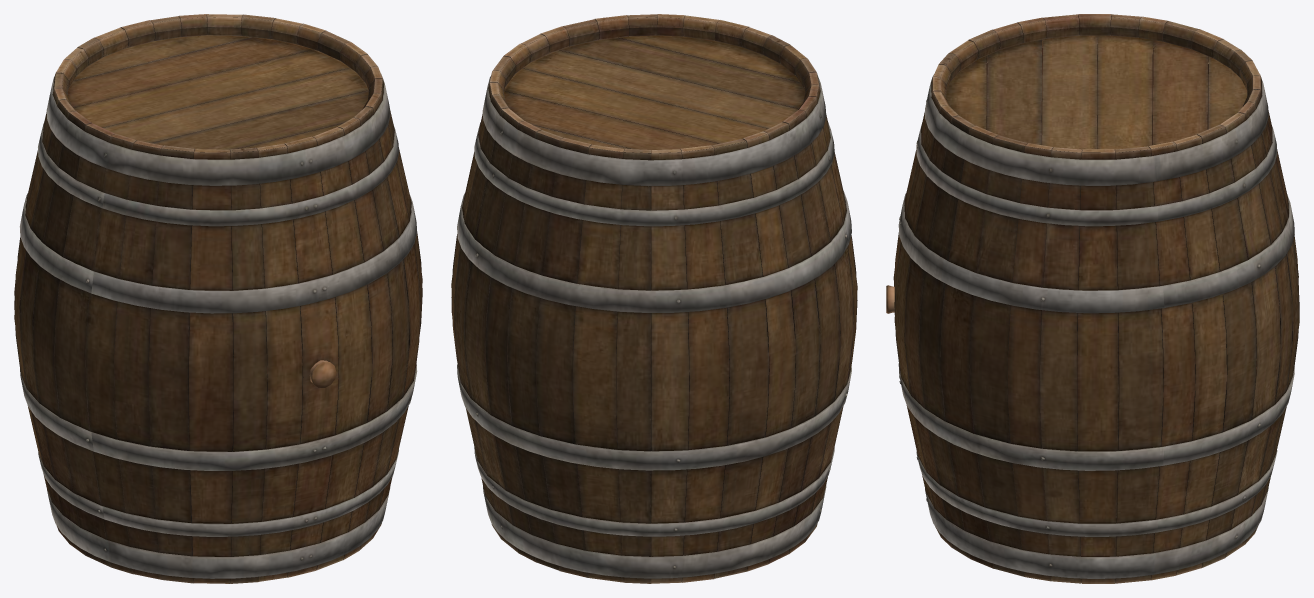
Rendered from wine_barrel_01.gltf.
The picture shows the model from 3 angles, left to right: view 1: azimuth 30°, elevation 25°; view 2: azimuth 150°, elevation 25°; view 3: azimuth 270°, elevation 25°; orthographic projection.
Visible parts, largest first — view 1: wine_barrel_01, wine_barrel_01_Lid, wine_barrel_01_bung; view 2: wine_barrel_01, wine_barrel_01_Lid; view 3: wine_barrel_01, wine_barrel_01_Lid.
Boxes of the visible parts, <box> form: wine_barrel_01: <box>14,14,422,583</box>; wine_barrel_01_Lid: <box>67,35,368,149</box>; wine_barrel_01_bung: <box>309,360,336,387</box>; wine_barrel_01: <box>451,14,857,583</box>; wine_barrel_01_Lid: <box>504,35,805,152</box>; wine_barrel_01: <box>893,14,1299,583</box>; wine_barrel_01_Lid: <box>946,35,1247,149</box>.
Bounding box in the file's own units: 0.7422 × 0.8713 × 0.756.
Materials: 1 (1 with a texture image).
